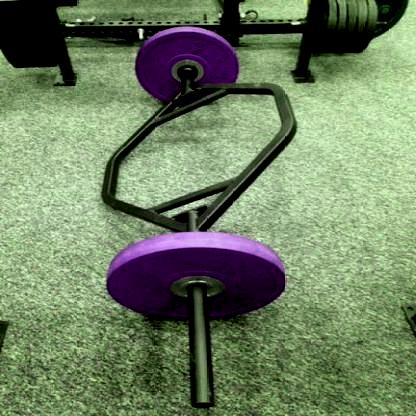Barbell: (182, 385, 231, 416)
